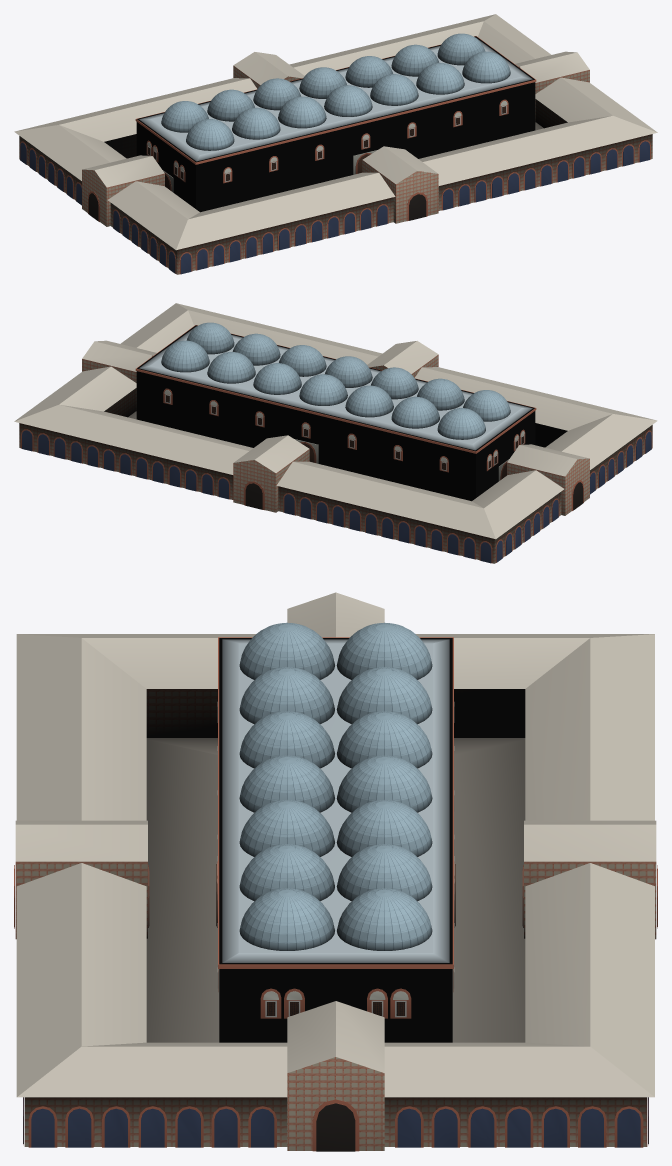
Rendered from bedesten_v03.glb.
The picture shows the model from 3 angles, top to bottom: view 1: azimuth 30°, elevation 25°; view 2: azimuth 150°, elevation 25°; view 3: azimuth 270°, elevation 25°; orthographic projection. The views are drawn at different scales.
Visible parts, largest first — view 1: Dukkanlar, Govde, Kubbeler, Dukkan_Kapilari, Girisler, Cati, Sacak, Pencereler, Gecitler, Kapilar; view 2: Dukkanlar, Govde, Kubbeler, Dukkan_Kapilari, Girisler, Cati, Sacak, Pencereler, Gecitler, Kapilar; view 3: Dukkanlar, Kubbeler, Ic_Bedesten_Sokagi, Girisler, Cati, Dukkan_Kapilari, Govde, Gecitler, Pencereler, Sacak.
Part boxes in pixels (<box>): Dukkanlar: <box>14,14,657,274</box>; Govde: <box>136,36,535,212</box>; Kubbeler: <box>161,33,510,150</box>; Dukkan_Kapilari: <box>20,140,650,274</box>; Girisler: <box>82,51,589,226</box>; Cati: <box>139,37,532,161</box>; Sacak: <box>135,36,536,164</box>; Pencereler: <box>146,99,508,183</box>; Gecitler: <box>88,191,427,221</box>; Kapilar: <box>163,150,377,192</box>; Dukkanlar: <box>14,303,657,563</box>; Govde: <box>136,325,535,501</box>; Kubbeler: <box>161,322,510,439</box>; Dukkan_Kapilari: <box>21,429,651,563</box>; Girisler: <box>82,340,589,515</box>; Cati: <box>139,326,532,450</box>; Sacak: <box>135,325,536,453</box>; Pencereler: <box>163,388,525,472</box>; Gecitler: <box>244,480,583,510</box>; Kapilar: <box>294,439,508,481</box>; Dukkanlar: <box>16,634,654,1146</box>; Kubbeler: <box>239,622,432,950</box>; Ic_Bedesten_Sokagi: <box>146,738,525,1042</box>; Girisler: <box>15,592,656,1150</box>; Cati: <box>222,639,449,962</box>; Dukkan_Kapilari: <box>23,1097,648,1147</box>; Govde: <box>219,638,452,1042</box>; Gecitler: <box>14,865,657,1151</box>; Pencereler: <box>217,702,454,1018</box>; Sacak: <box>218,637,453,968</box>.
Bounding box in the file's own units: 84.94 × 13.5 × 49.64.
Materials: 11 (3 with a texture image).
